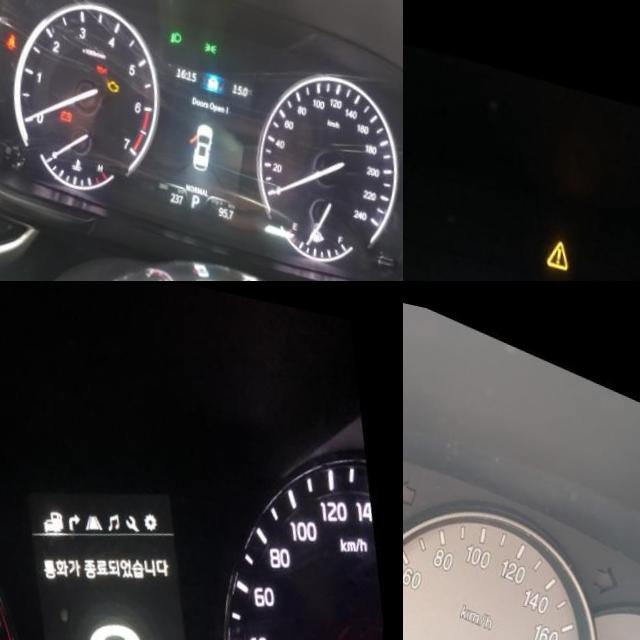Central Warning lamp: (547, 217, 574, 251)
Low beam: (173, 14, 185, 29)
SideLamp: (206, 23, 220, 37)
